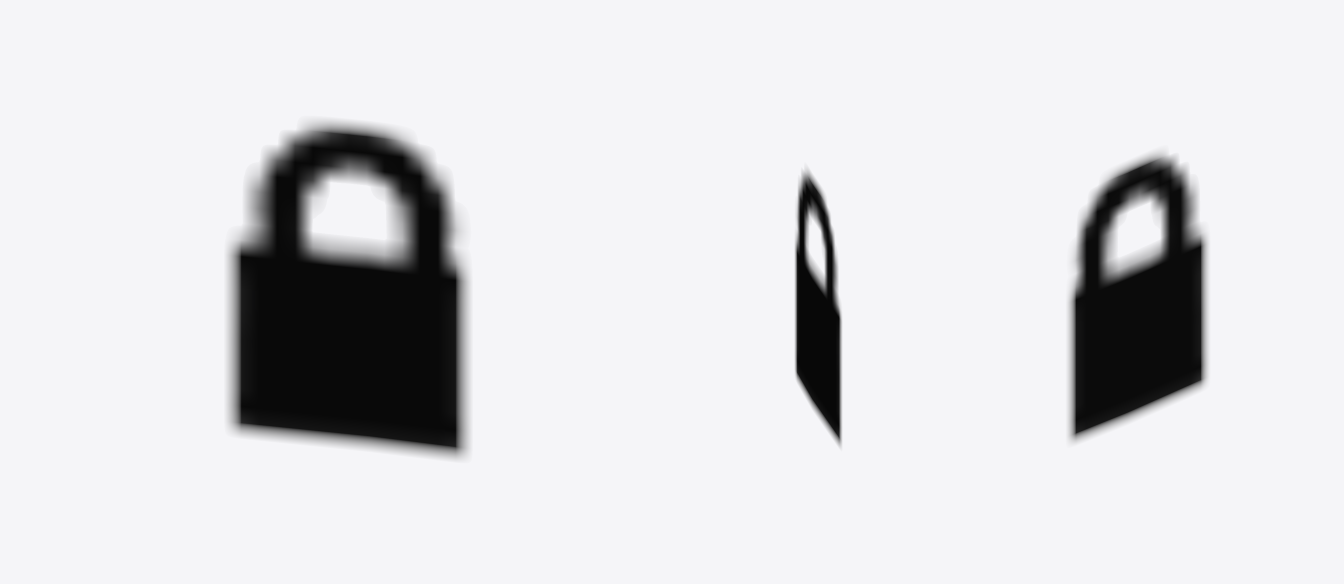
The model's file is car2_lock.glb.
3 renders of one model, left to right at view 1: azimuth 30°, elevation 25°; view 2: azimuth 150°, elevation 25°; view 3: azimuth 270°, elevation 25°, orthographic. The views are drawn at different scales.
Visible parts, largest first — view 1: menu_3_car2_lock; view 2: menu_3_car2_lock; view 3: menu_3_car2_lock.
Boxes of the visible parts, <box> form: menu_3_car2_lock: <box>226,119,470,460</box>; menu_3_car2_lock: <box>795,168,841,447</box>; menu_3_car2_lock: <box>1067,150,1208,444</box>.
Bounding box in the file's own units: 0.5024 × 0.509 × 0.5024.
Materials: 1 (1 with a texture image).
